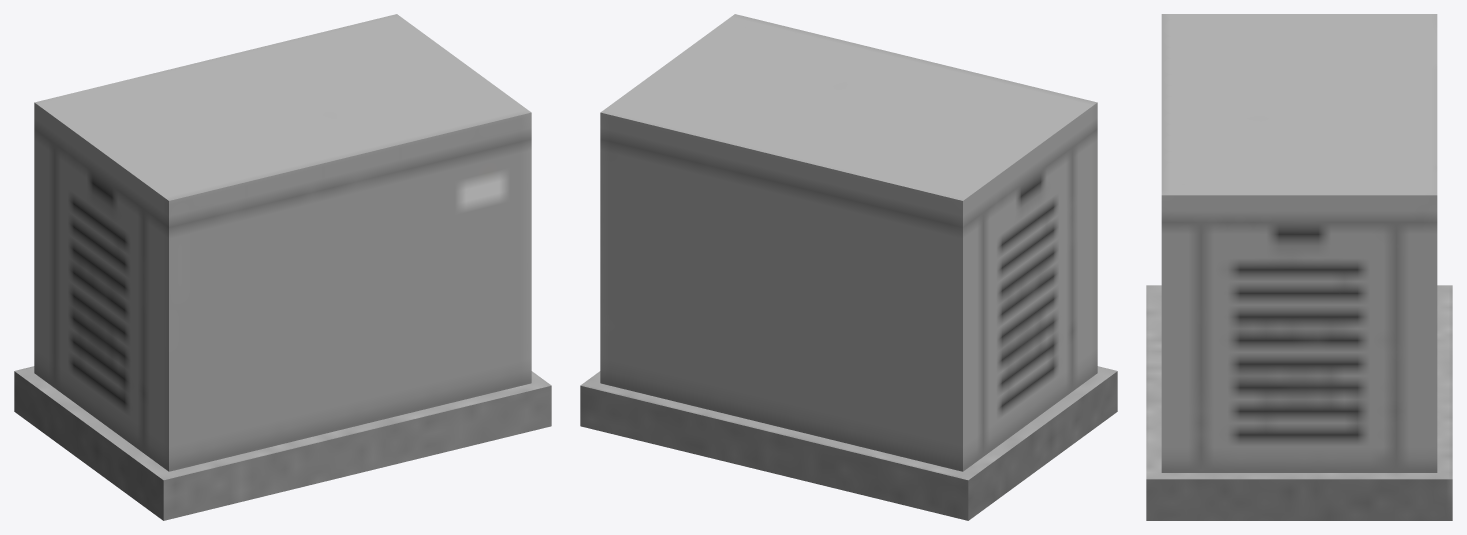
The model's file is Switch_Box_001_A.FBX.
3 renders of one model, left to right at view 1: azimuth 30°, elevation 25°; view 2: azimuth 150°, elevation 25°; view 3: azimuth 270°, elevation 25°, orthographic. The views are drawn at different scales.
Visible parts, largest first — view 1: Switch_Box_001_A; view 2: Switch_Box_001_A; view 3: Switch_Box_001_A.
Part boxes in pixels (x1,y1,x2,y2): Switch_Box_001_A: (14, 14, 551, 520); Switch_Box_001_A: (580, 14, 1117, 520); Switch_Box_001_A: (1146, 14, 1452, 520).
Size of the model in its own units: 150 by 100 by 115.
